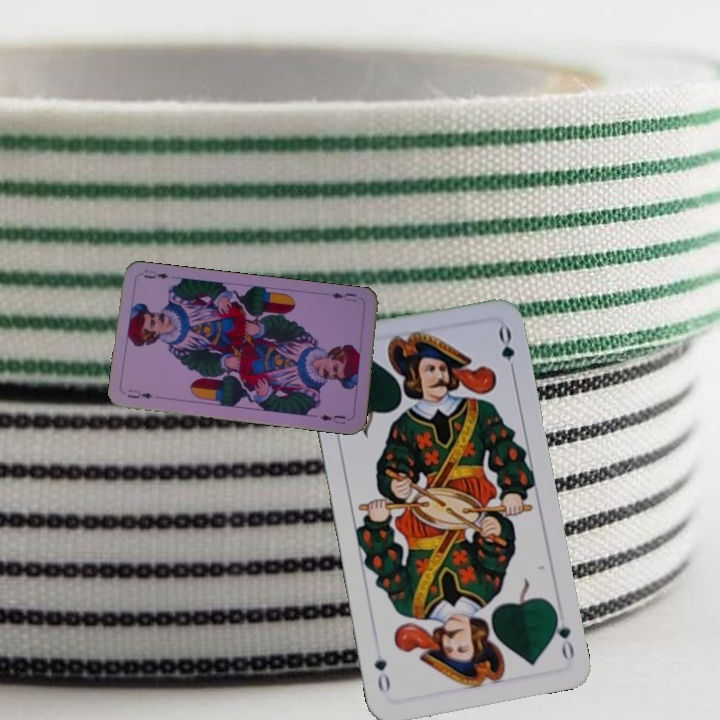EU: (123, 385, 155, 402), (327, 288, 359, 304)
GO: (549, 605, 577, 663)
